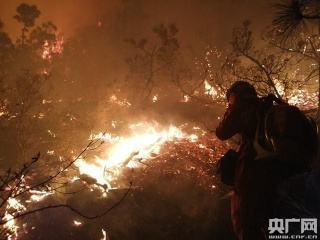fire: (69, 111, 195, 189), (1, 179, 49, 233), (266, 74, 315, 106), (192, 65, 232, 101), (36, 31, 64, 57)
